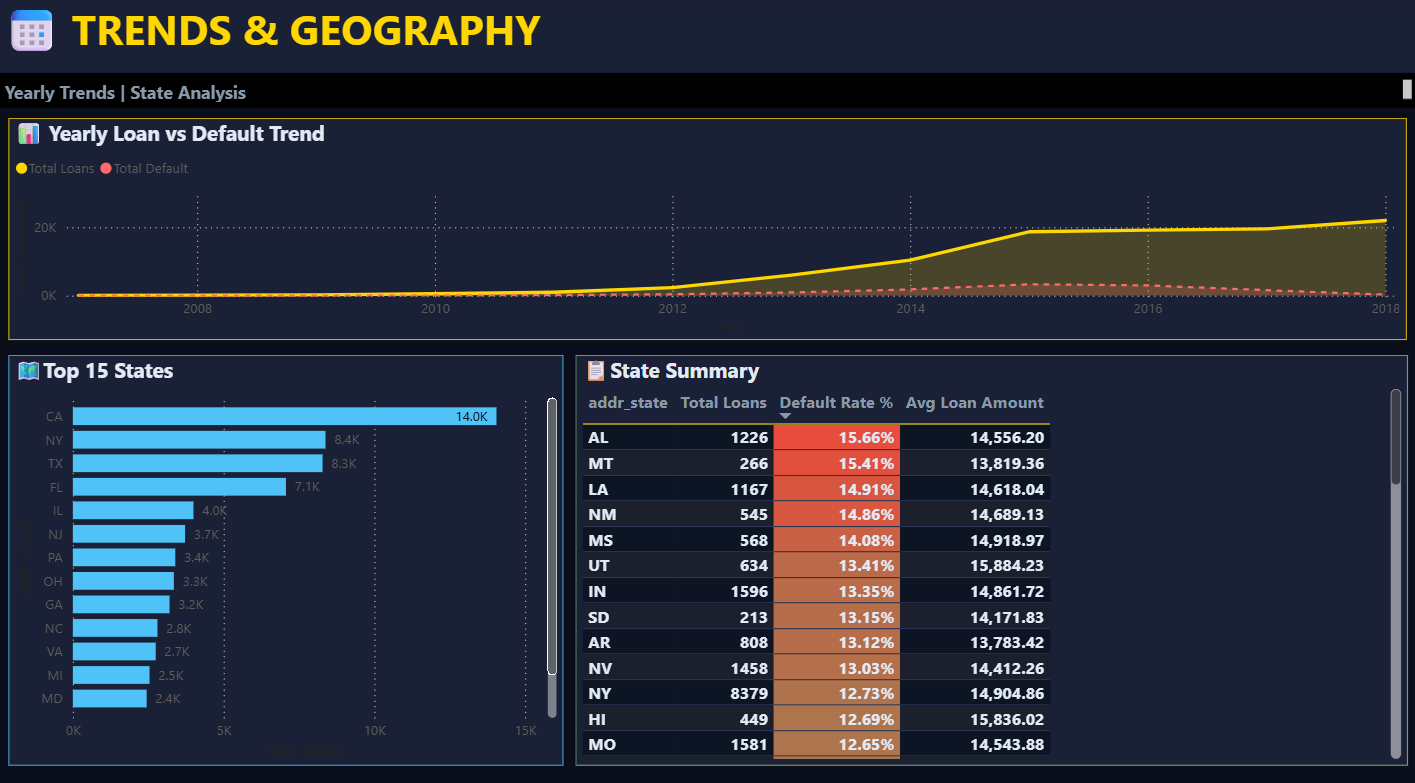

This screenshot's page, from the dashboard's own definition file:
{"tool":"powerbi","page":{"name":"Page 3","canvas":[1280,720],"ordinal":2},"visuals":[{"type":"shape","box":[0,0,1280,70],"z":0,"group":"g1"},{"type":"textbox","box":[0,70,1280,31.4],"z":0},{"type":"group","id":"g1","title":"Group 1","box":[0,0,1279.5,69.7],"z":1000},{"type":"textbox","box":[0,0,676.8,60.6],"z":1000,"group":"g1"},{"type":"areaChart","title":"📊 Yearly Loan vs Default Trend","fields":{"Category":["loan_clean.issue_date.Variation.Date Hierarchy.Year"],"Y":["loan_clean.Total Loans","loan_clean.Total Default Loans"]},"box":[9.5,110.8,1259.8,200.1],"z":1001},{"type":"clusteredBarChart","title":"🗺️Top 15 States","fields":{"Category":["loan_clean.addr_state"],"Y":["loan_clean.Total Loans"]},"box":[10,325,500,370],"z":1002},{"type":"tableEx","title":"📋State Summary","fields":{"Values":["loan_clean.addr_state","loan_clean.Total Loans","loan_clean.Default Rate %","loan_clean.Avg Loan Amount"]},"box":[520,325,750,370],"z":1003}]}

Visuals, with their boxes in screenshot pixels (x1, y1, x2, y2), scaled from the page's 1280x720 canvas onto the 1415x783 screenshot:
shape: 0:0:1414:76
textbox: 0:76:1414:110
"Group 1" group: 0:0:1414:76
textbox: 0:0:748:66
"📊 Yearly Loan vs Default Trend" areaChart: 11:120:1403:338
"🗺️Top 15 States" clusteredBarChart: 11:353:564:756
"📋State Summary" tableEx: 575:353:1404:756
